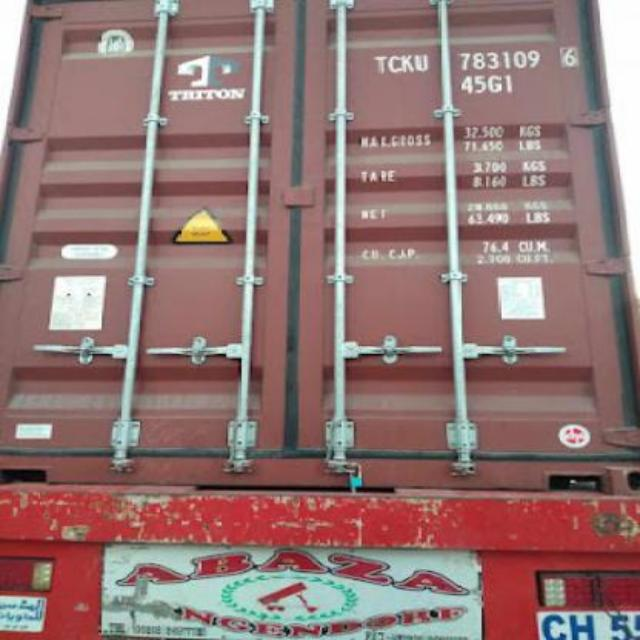0: (512, 45, 526, 71)
1: (500, 44, 512, 74)
3: (484, 48, 500, 74)
6: (560, 41, 580, 70)
7: (454, 48, 472, 72)
8: (470, 48, 486, 72)
9: (526, 44, 542, 76)
C: (388, 52, 402, 78)
K: (401, 46, 414, 82)
T: (370, 49, 388, 81)
U: (414, 51, 430, 75)
